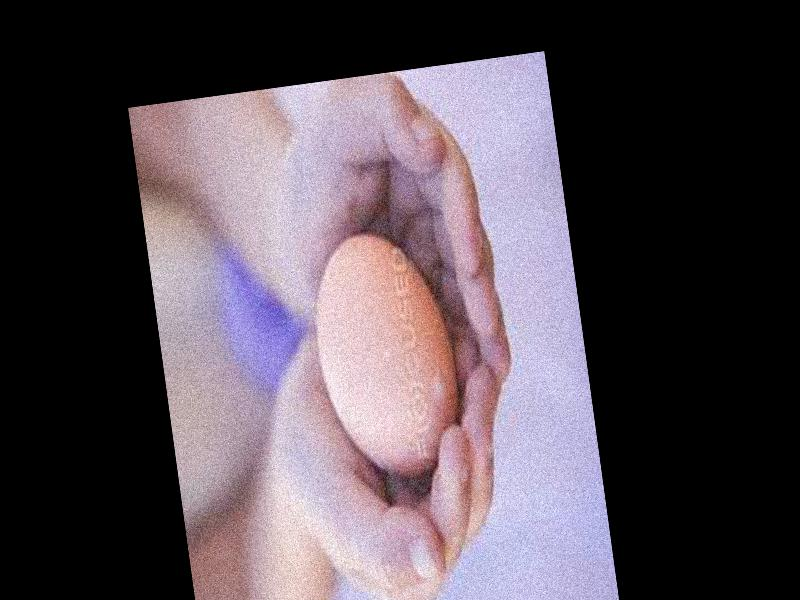Eggs: (301, 220, 468, 483)
